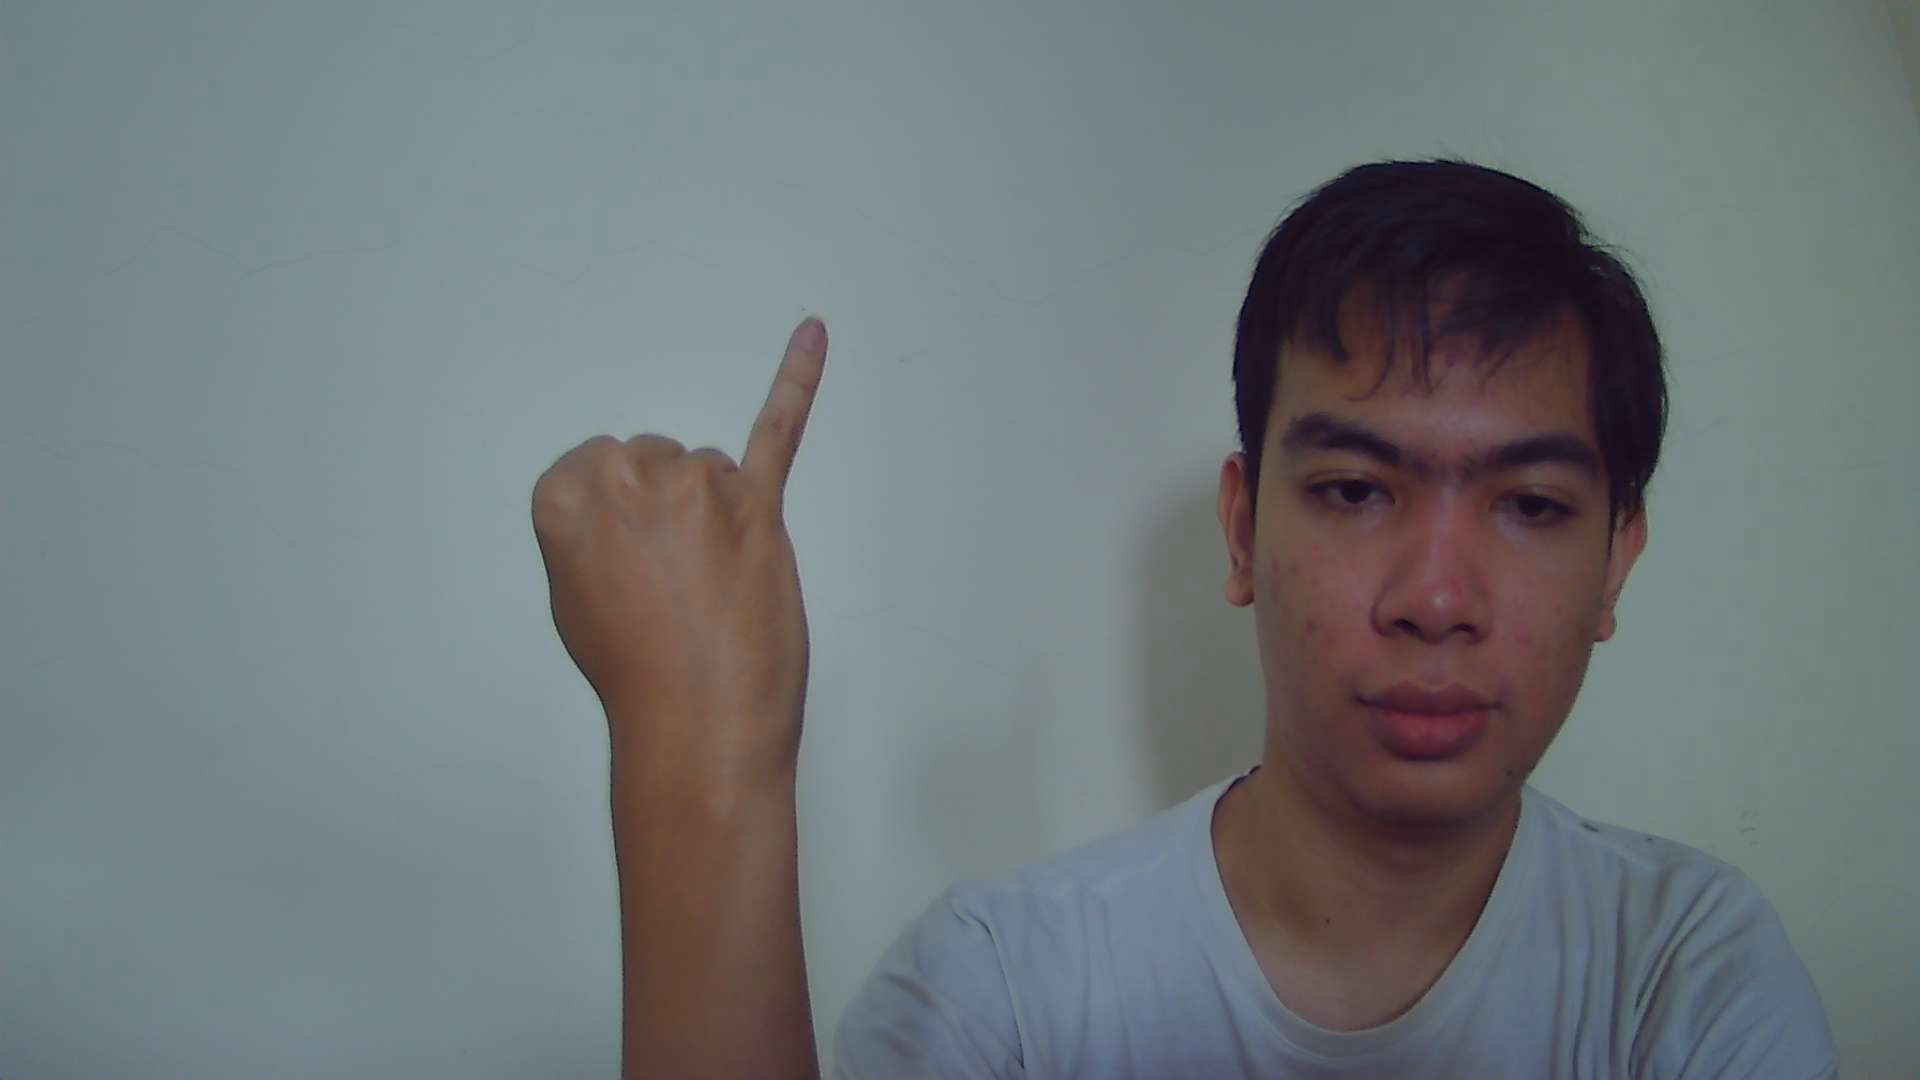j: (525, 310, 832, 673)
